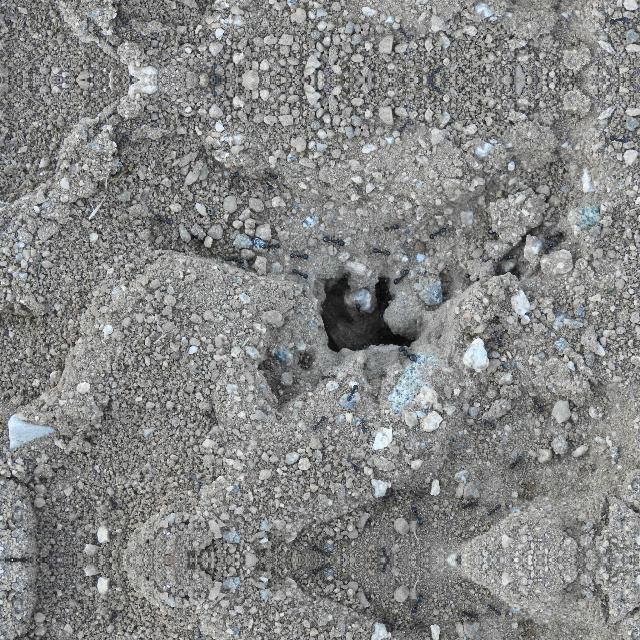Messor: (341, 380, 363, 406), (408, 502, 428, 528), (408, 592, 428, 618), (506, 448, 526, 472), (395, 343, 419, 362), (318, 232, 346, 248), (374, 540, 396, 560), (542, 234, 562, 256), (374, 560, 396, 580), (104, 490, 122, 512), (104, 608, 122, 630), (427, 223, 448, 241), (460, 495, 480, 513), (309, 411, 327, 431), (343, 452, 361, 472), (460, 607, 480, 625), (392, 265, 408, 287), (224, 166, 240, 188), (379, 486, 396, 506), (379, 614, 396, 634), (155, 212, 175, 228), (310, 544, 336, 556), (310, 564, 336, 576), (357, 413, 371, 435), (406, 486, 424, 502), (258, 239, 282, 251), (406, 618, 424, 634), (318, 368, 338, 382), (260, 167, 280, 181), (289, 250, 311, 262), (223, 252, 245, 264), (543, 227, 563, 240), (292, 265, 308, 281), (206, 408, 220, 426), (532, 394, 544, 414), (486, 500, 502, 514), (496, 248, 512, 262), (486, 606, 502, 620), (480, 416, 498, 428), (374, 245, 391, 257), (382, 222, 400, 232), (354, 300, 364, 316)
